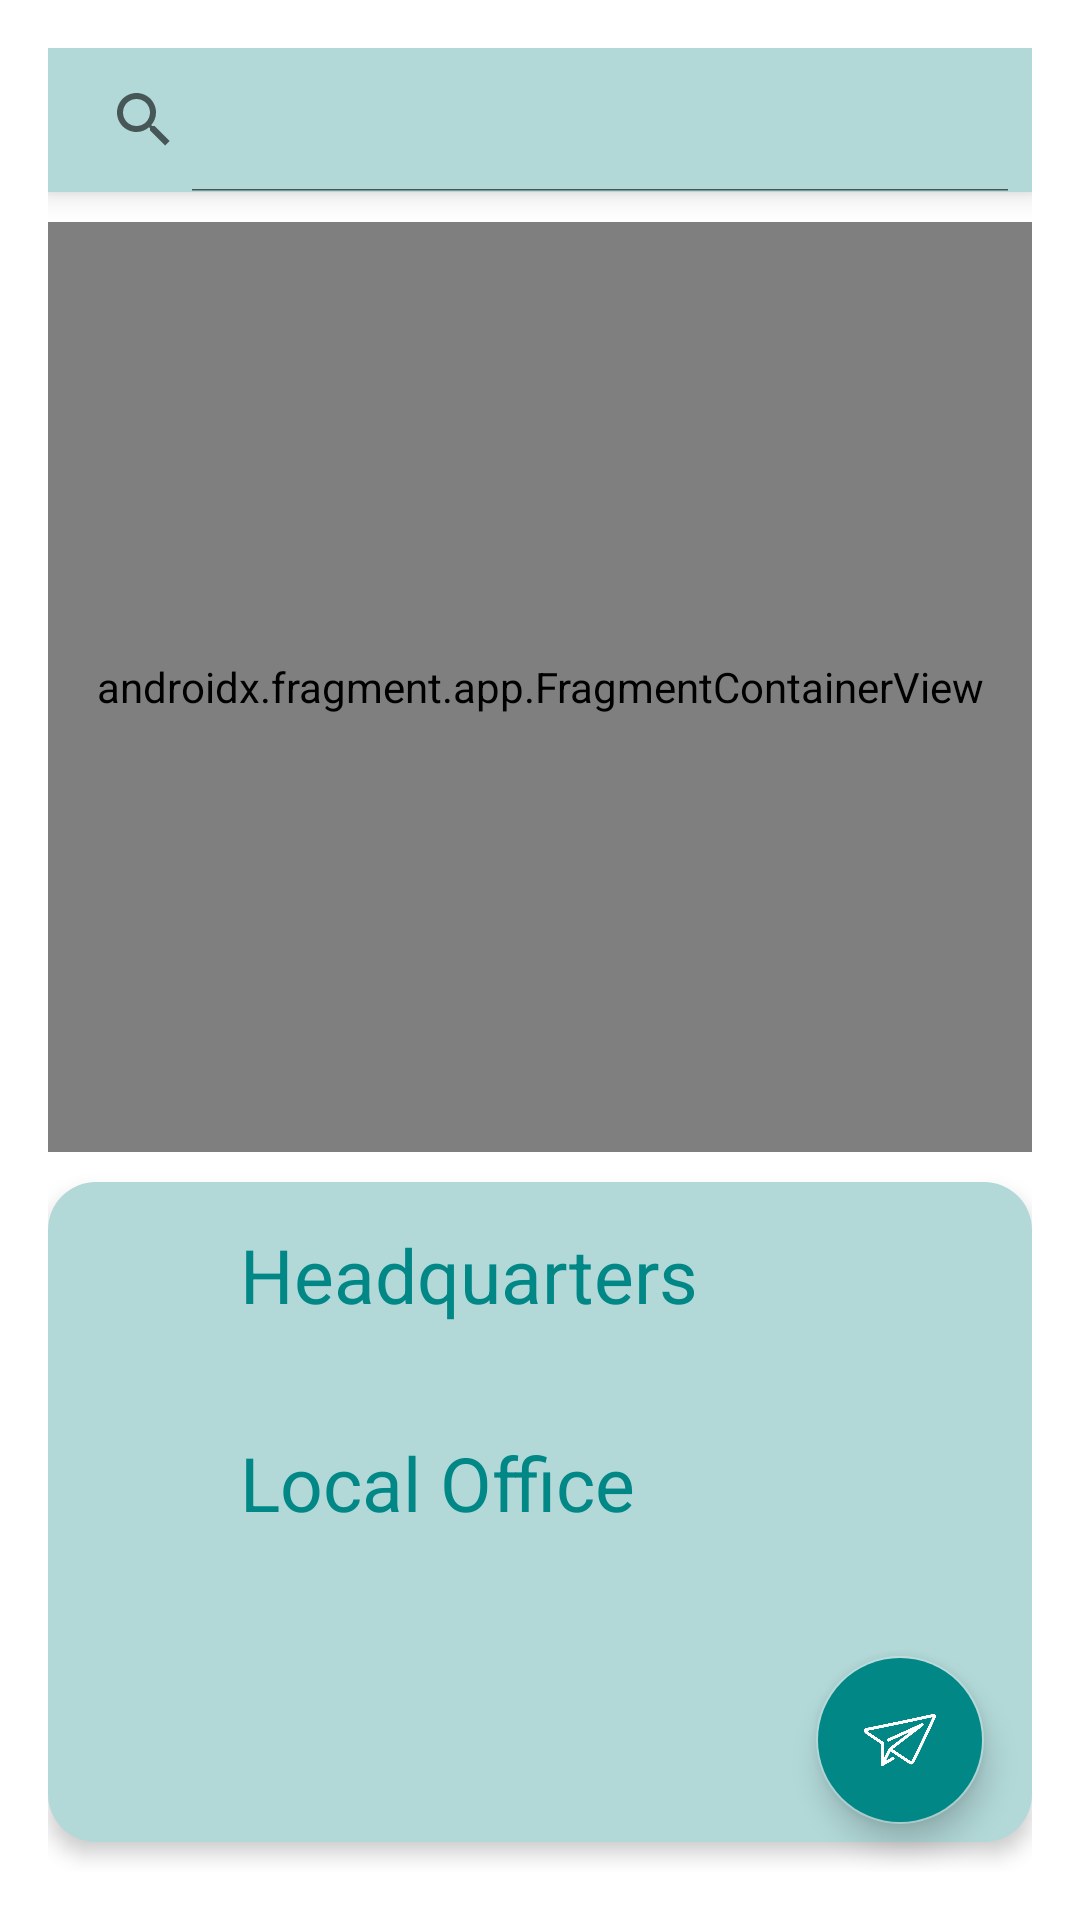

Point at icon controls on the screen. Image size 1080px x 1920px, points as (x,y).
Send Message Floating Action Button: (900,1740)
